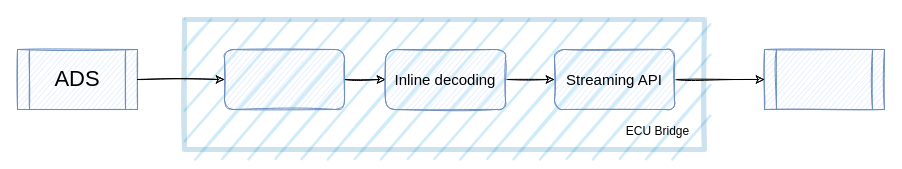
This 902x169 diagram has some shape labels left out. The centre of each missing label's shape, as x and y in pixels:
"C# Wideband Receiver" goes at point 284,79.
"Kafka" goes at point 824,79.
